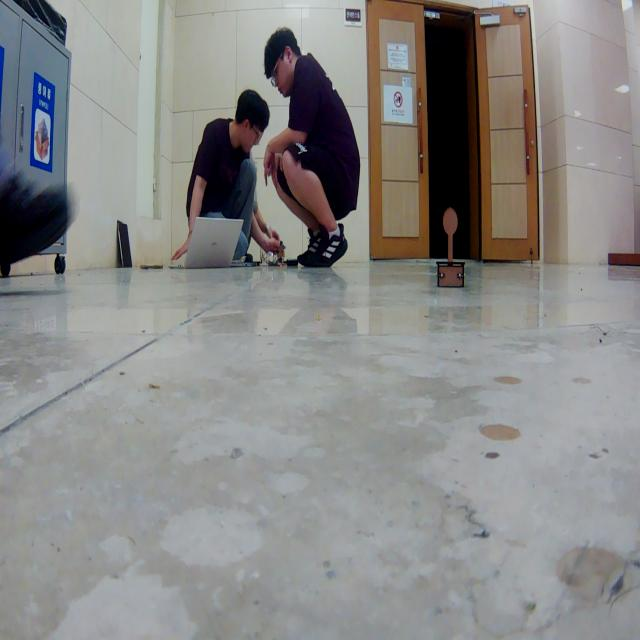target: (436, 206, 465, 288)
